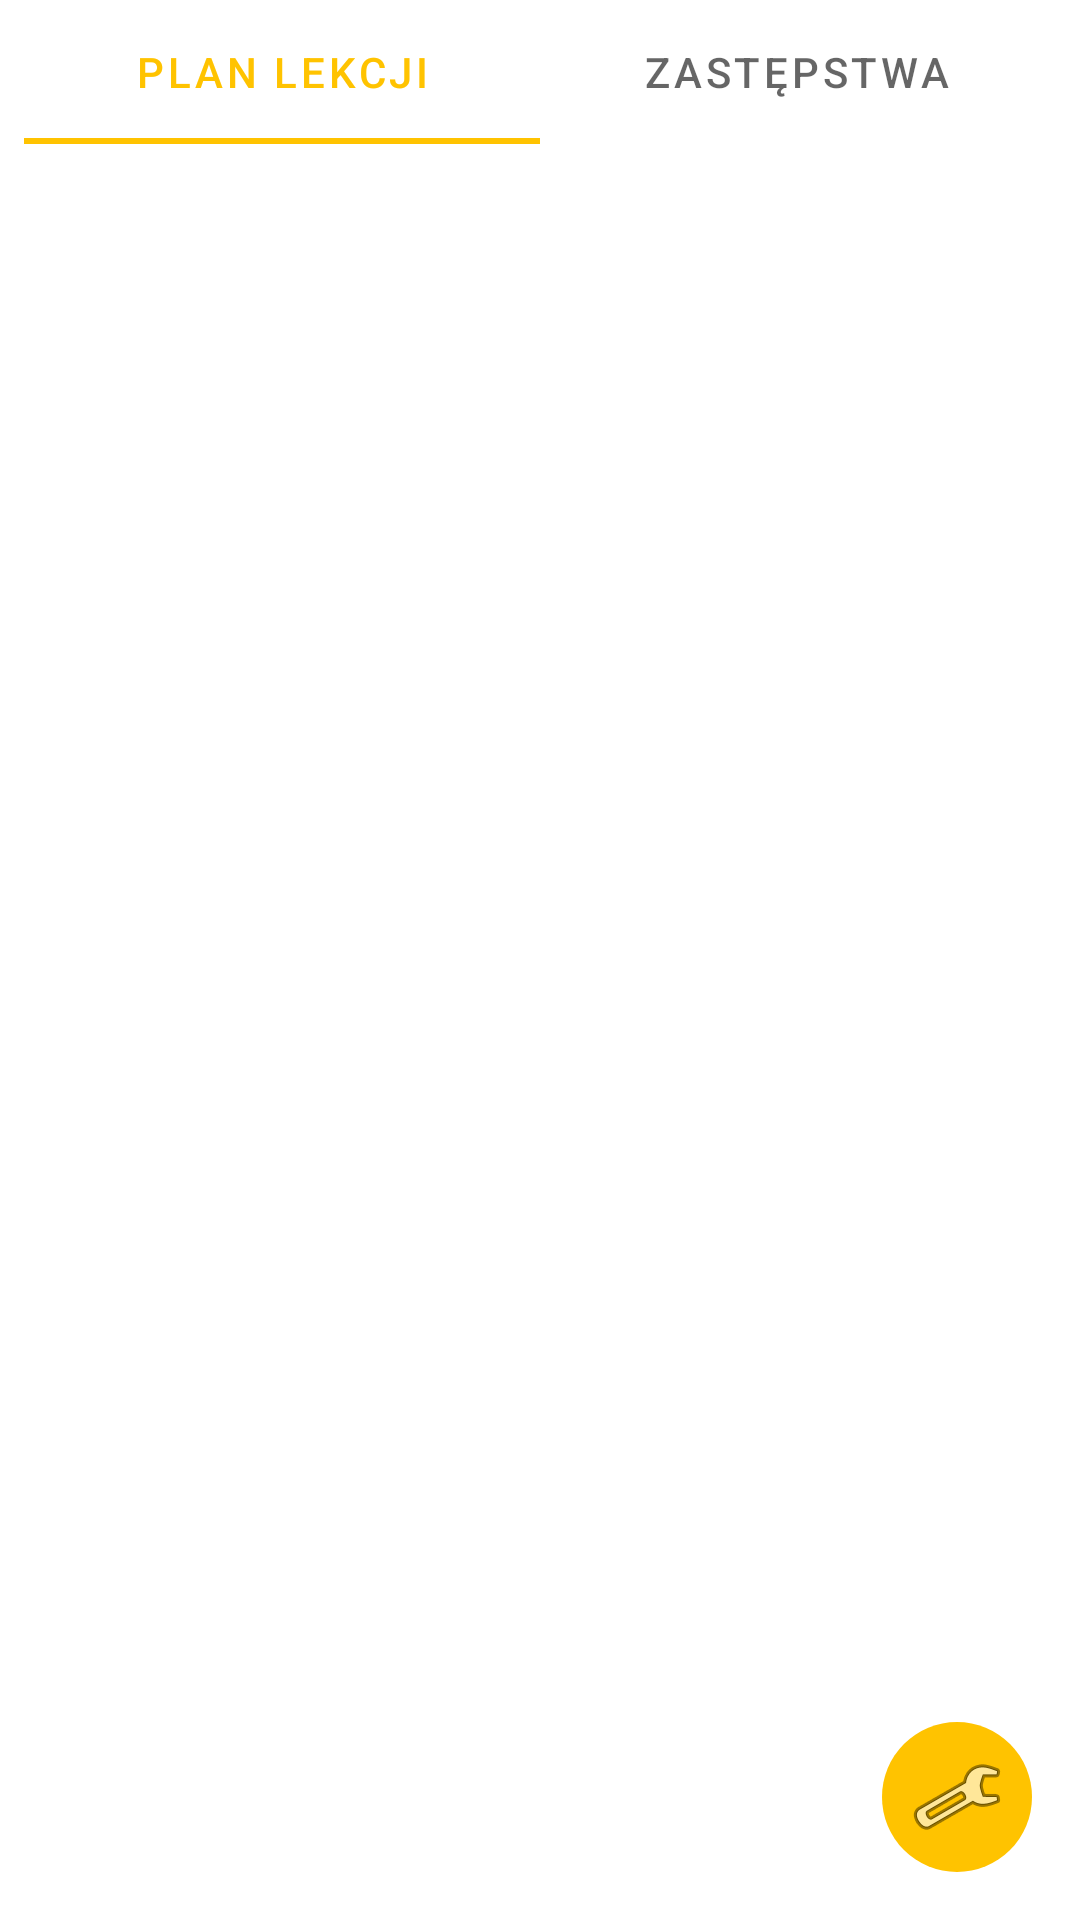

Where to tap for icons on this 1080 × 1920 app screen, as point (x, y):
preferences: point (957, 1797)
